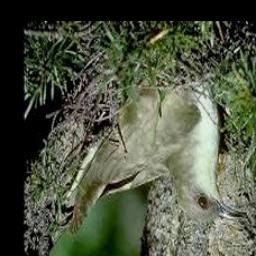Cuckoo: (71, 82, 248, 236)
